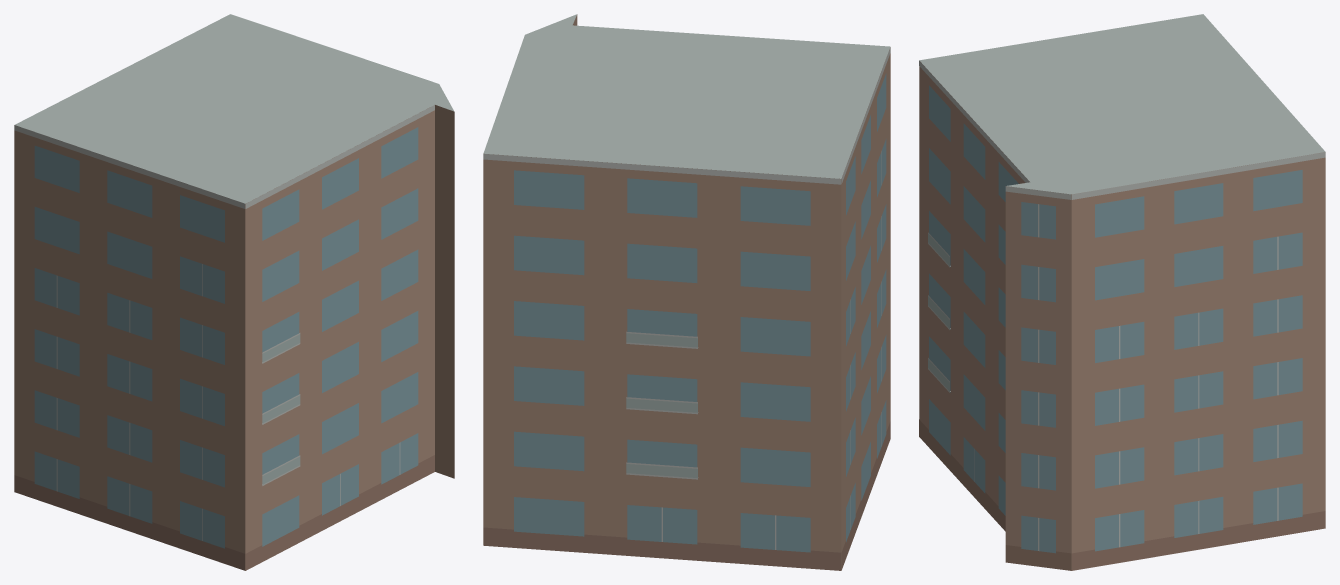
File: survey-upis-32824794.glb
The picture shows the model from 3 angles, left to right: view 1: azimuth 30°, elevation 25°; view 2: azimuth 150°, elevation 25°; view 3: azimuth 270°, elevation 25°; orthographic projection. The views are drawn at different scales.
Parts seen in each view (by area): view 1: survey-upis-32824794.tmp; view 2: survey-upis-32824794.tmp; view 3: survey-upis-32824794.tmp.
Part boxes in pixels (x1,y1,x2,y2): survey-upis-32824794.tmp: (14,14,454,570); survey-upis-32824794.tmp: (483,14,890,570); survey-upis-32824794.tmp: (919,14,1325,570).
Bounding box in the file's own units: 16.97 × 16.5 × 16.16.
